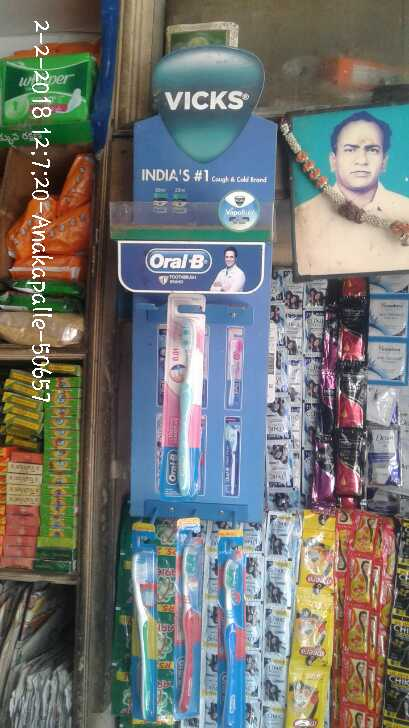oralb: (163, 293, 199, 491), (213, 528, 246, 727), (130, 520, 158, 719), (174, 516, 200, 717)
